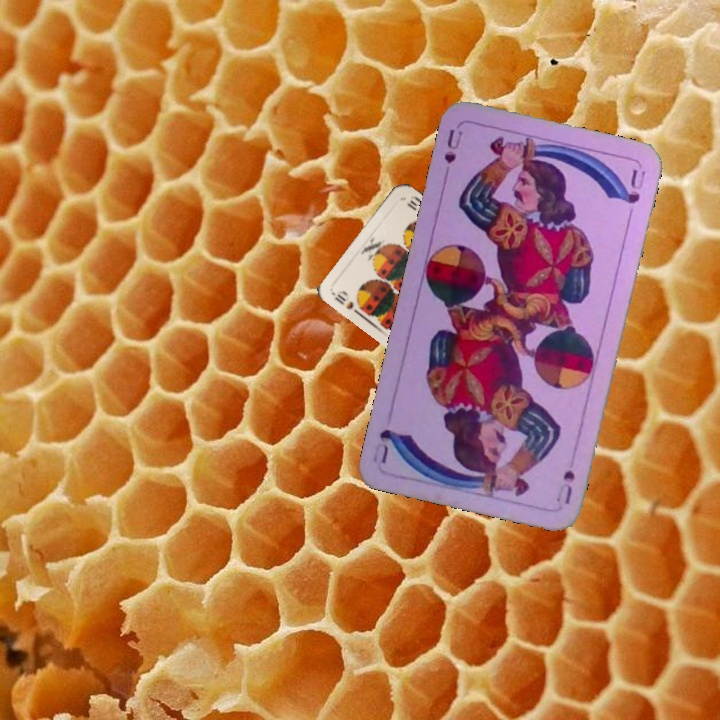S10: (329, 286, 367, 319)
SU: (440, 125, 466, 167), (552, 466, 578, 507)
